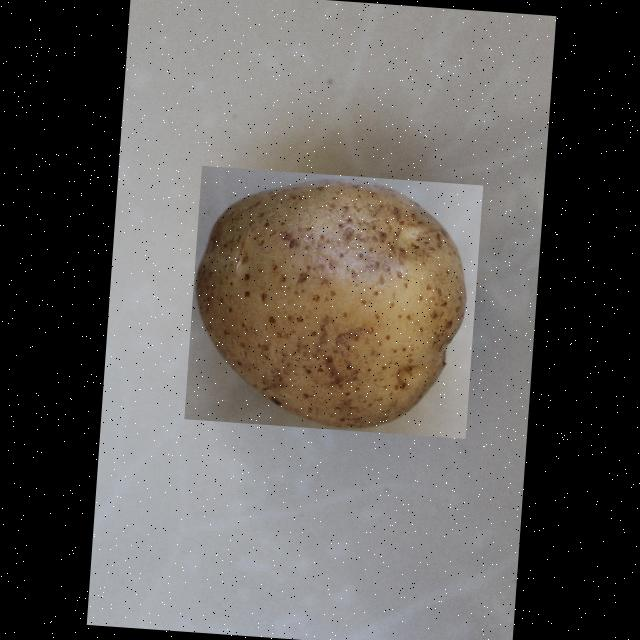Diseased-fungal potato: (183, 165, 482, 438)
